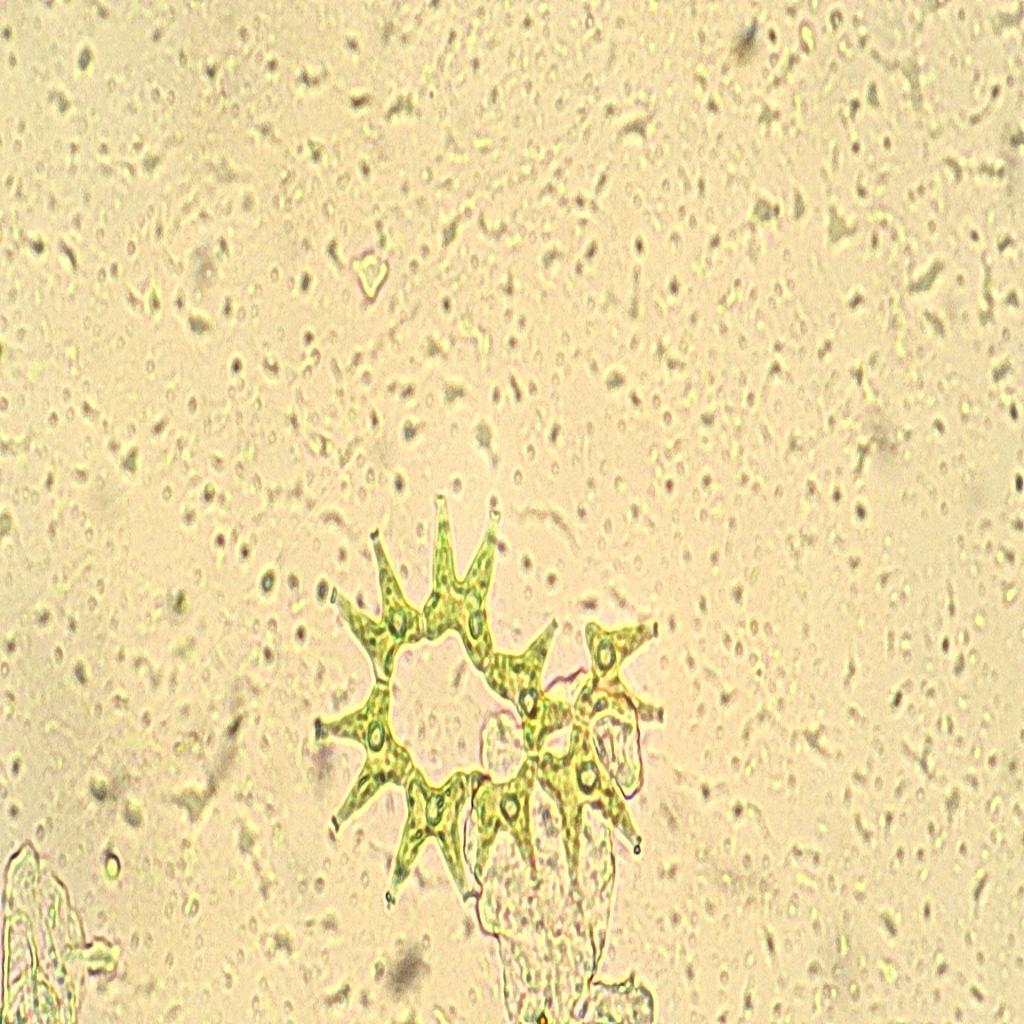Pediastrum_1TH: (300, 479, 688, 927)
